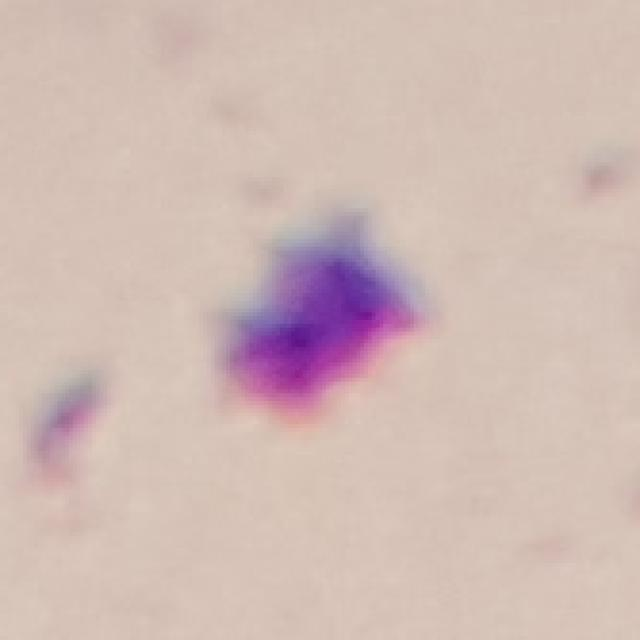non-sperm: (198, 234, 422, 414)
